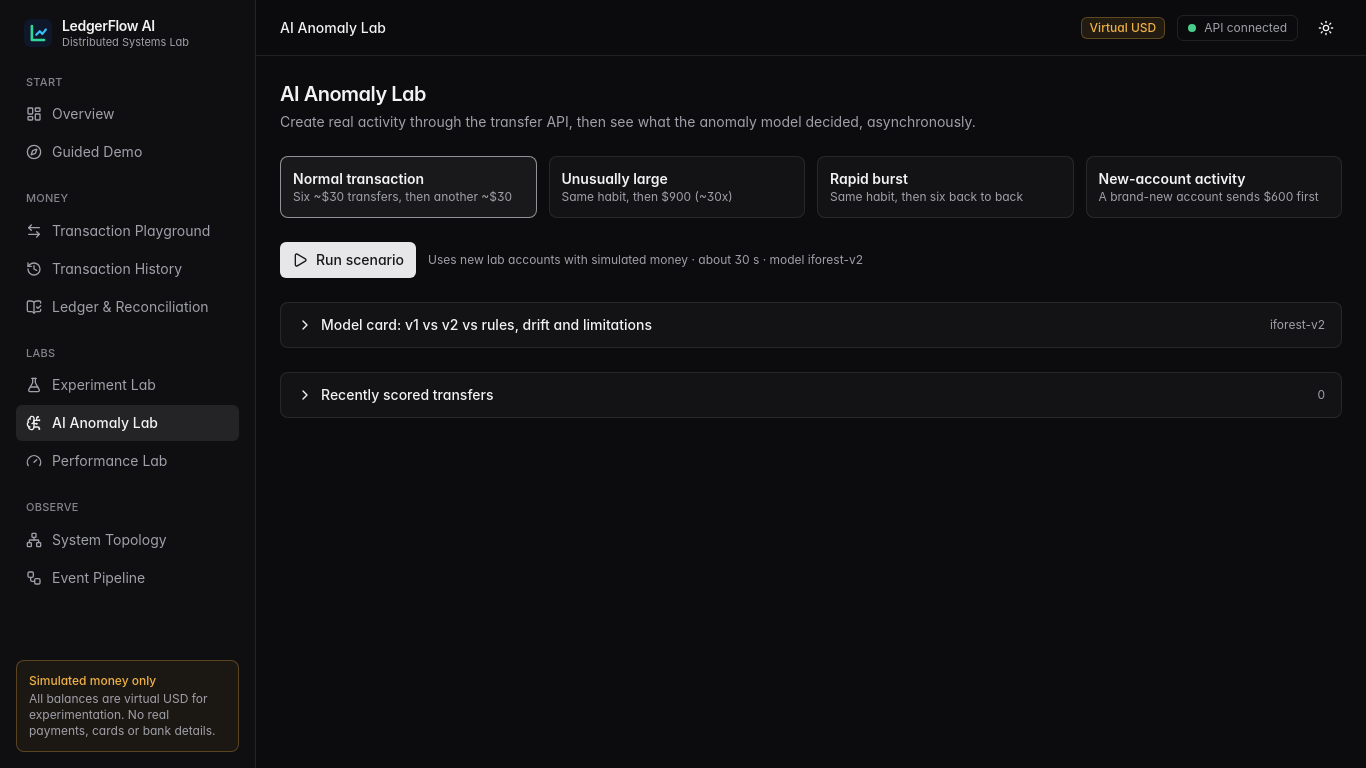
Scenario: AI Anomaly Lab › shows the model's and the rules' verdicts separately, and when they disagree
The width and height of the screenshot is (1366, 768).
Click the button "Run scenario": (348, 260) [280,242,416,278]
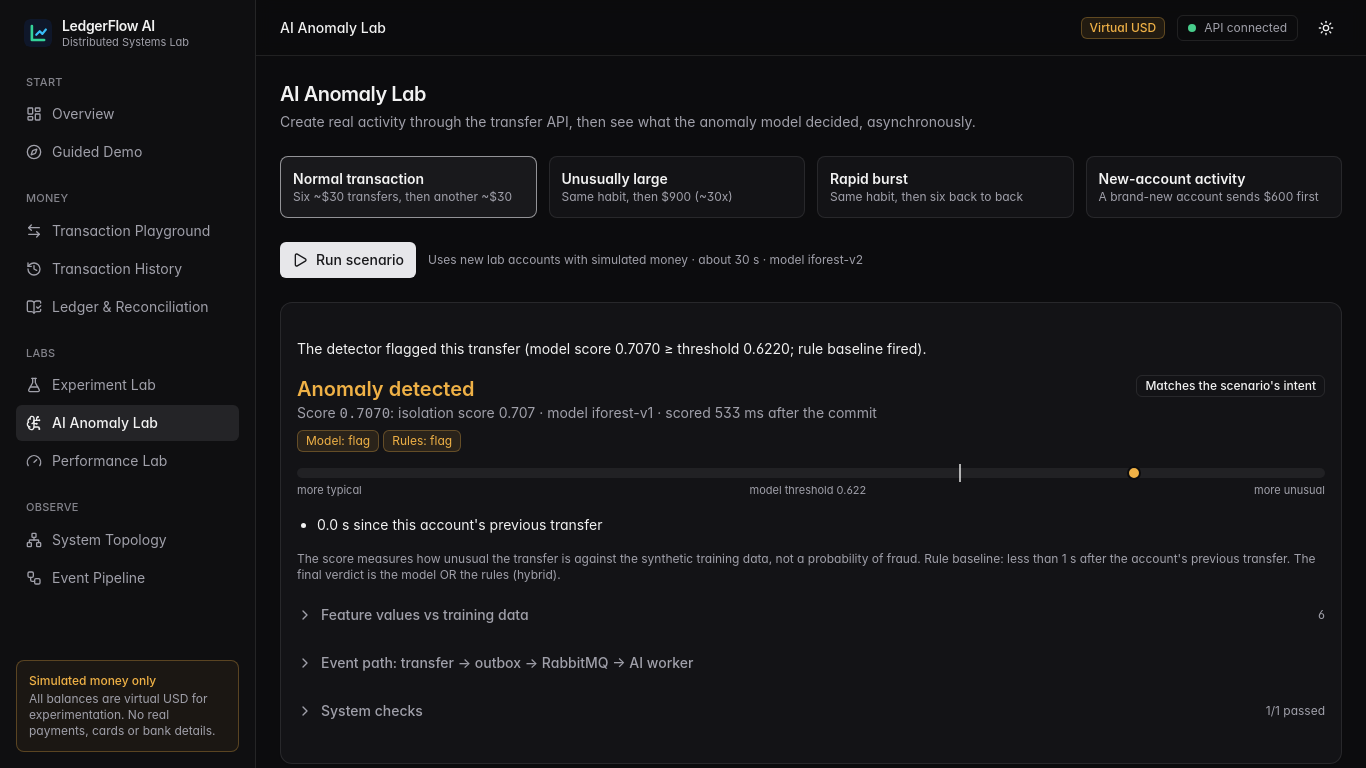
Expected: the element with test id "ai-verdicts" shows "Model: flag", [297,430,461,452]
Expected: the element with test id "ai-verdicts" shows "Rules: flag", [297,430,461,452]
